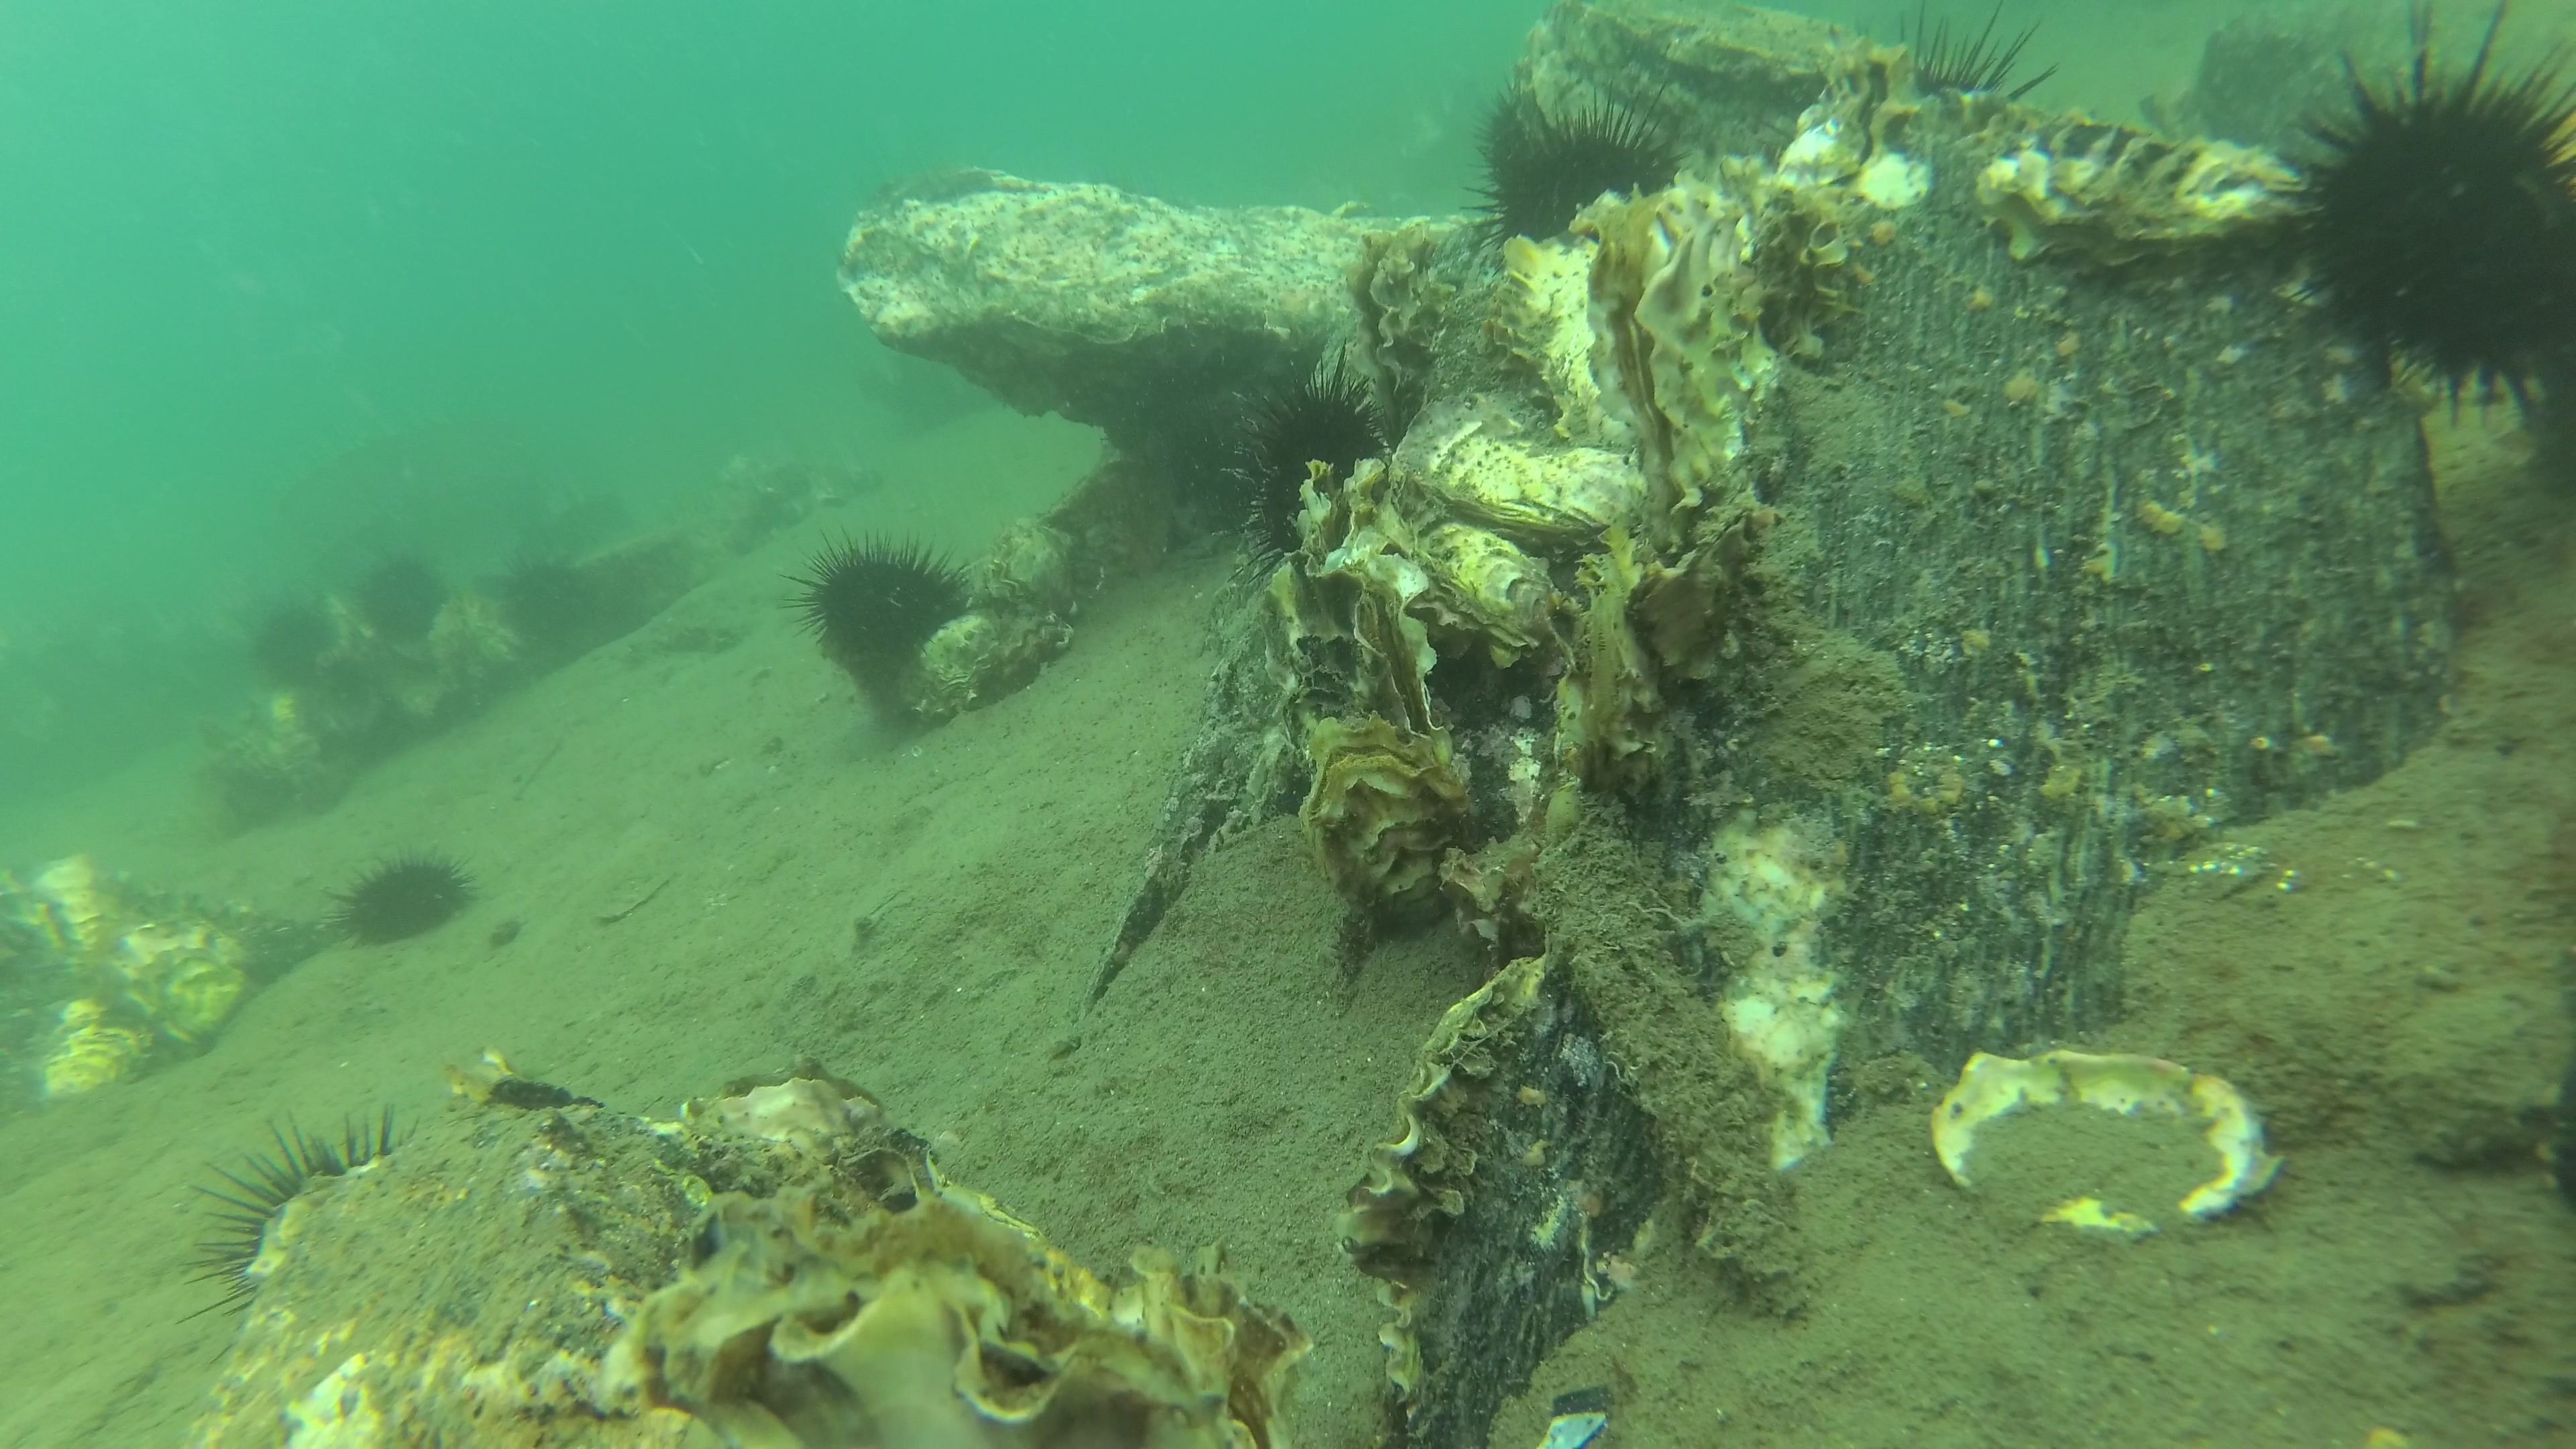echinus: (2263, 0, 2576, 426), (175, 1102, 430, 1362), (1755, 0, 2068, 161), (1226, 340, 1399, 600), (1460, 74, 1702, 255), (777, 522, 989, 667), (320, 839, 485, 952), (501, 545, 600, 648), (356, 548, 455, 649), (248, 602, 345, 692), (327, 653, 372, 692)
